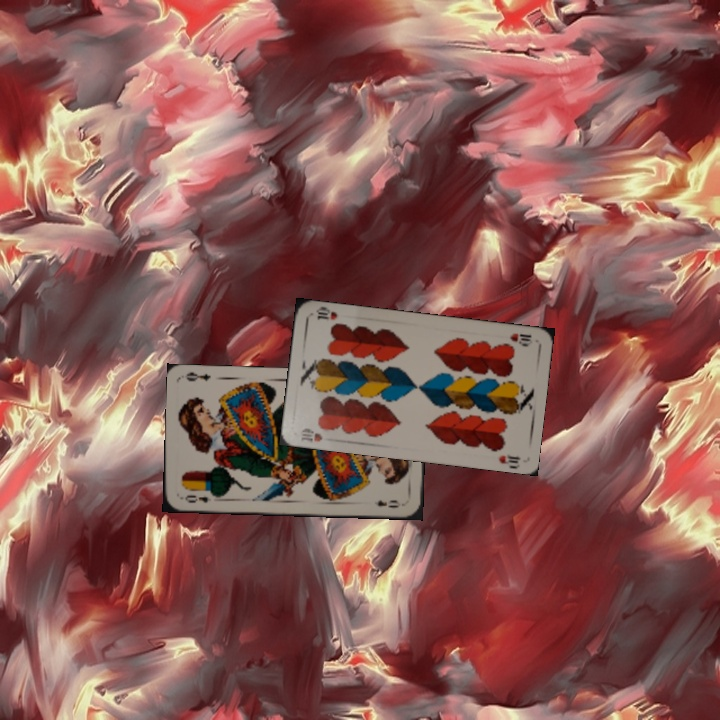EO: (181, 489, 218, 505)
H10: (297, 424, 325, 444), (506, 329, 535, 348)
